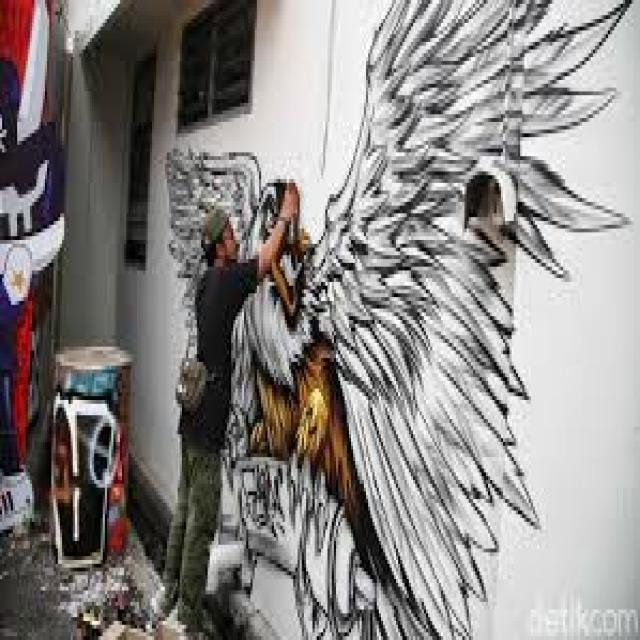-: (163, 0, 633, 636), (0, 0, 62, 471), (51, 392, 119, 574)
